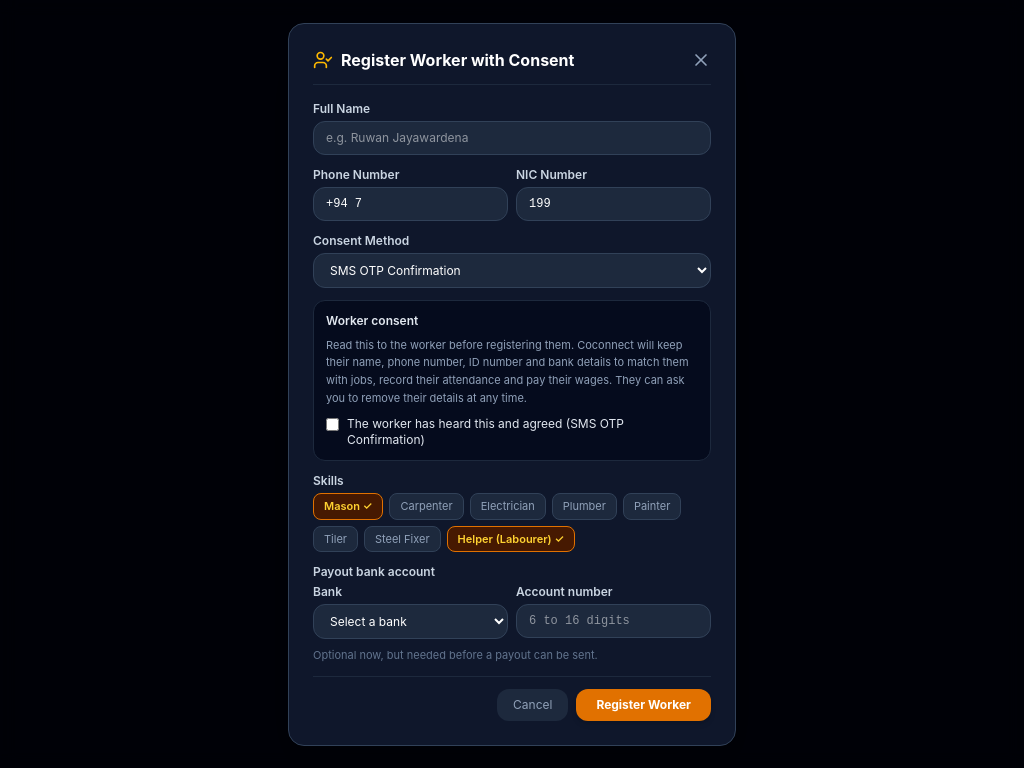
Scenario: AddWorkerModal consent and bank details › rejects an account number that is not 6 to 16 digits
This screenshot has width=1024, height=768.
Type "Nuwan Perera" into the field with placeholder "e.g. Ruwan Jayawardena". click: (512, 138)
box: [313, 120, 711, 154]
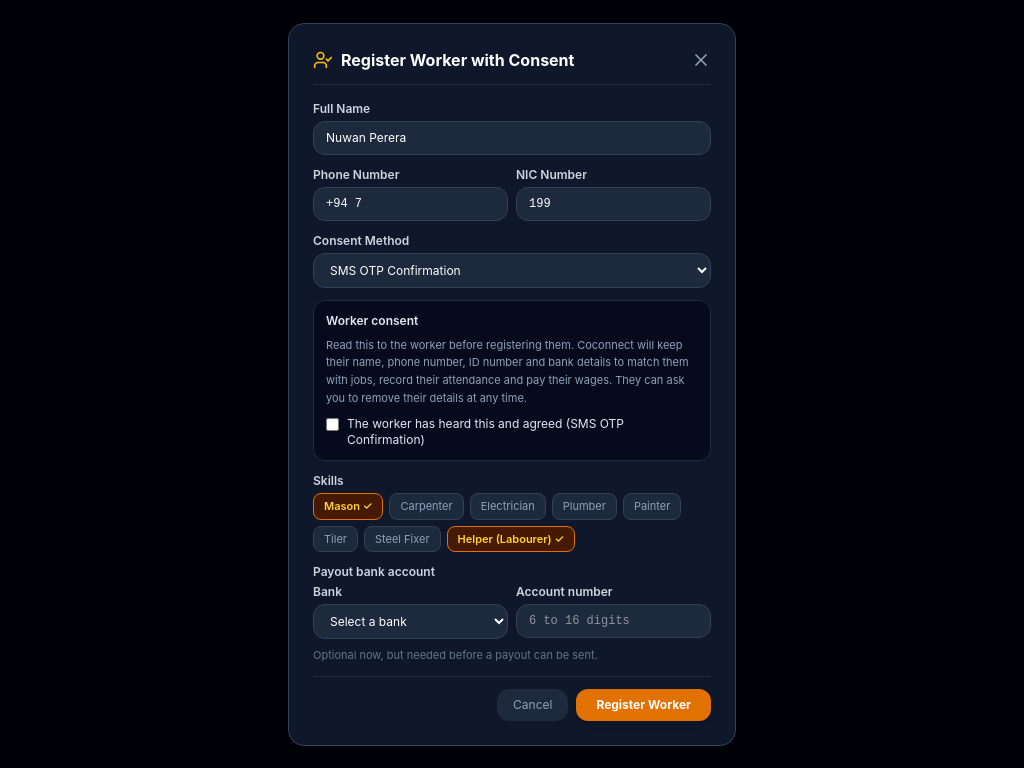
Click the checkbox with test id "consent-confirm". click: (332, 424)
box: [326, 418, 339, 431]
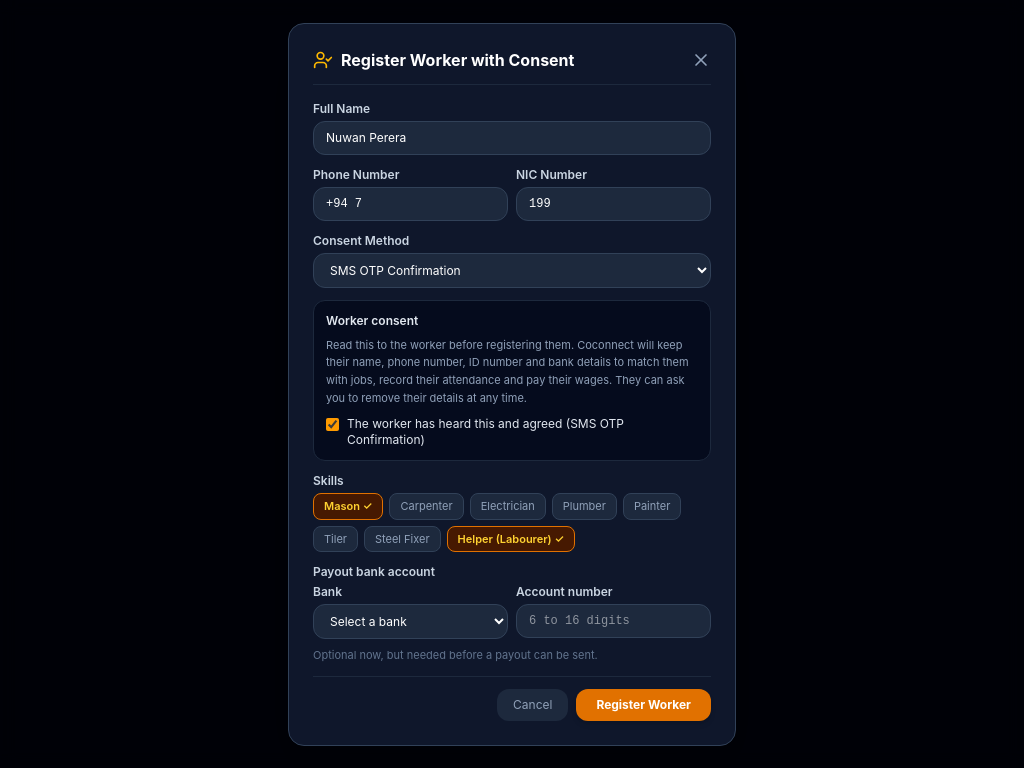
Select "Bank of Ceylon" in the dropdown with test id "bank-code". click: (410, 622)
box: [313, 604, 508, 639]
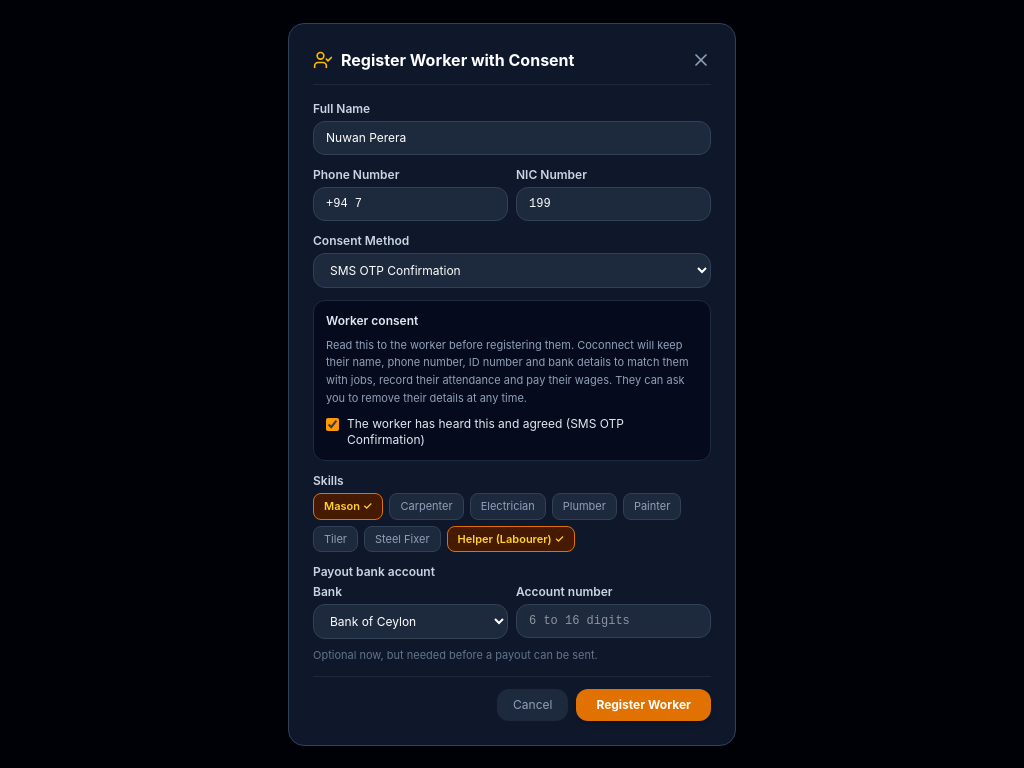
Type "12-34" into the field with test id "bank-account". click: (614, 621)
box: [516, 604, 711, 638]
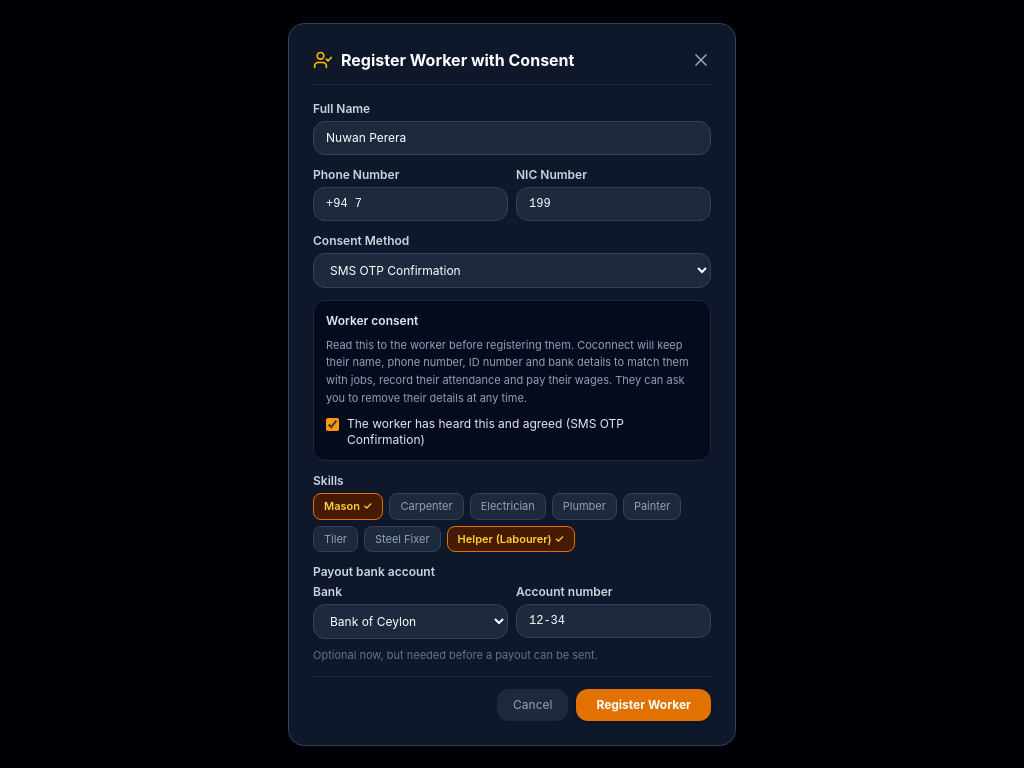
Click the submit button. click: (644, 704)
box: [576, 688, 711, 720]
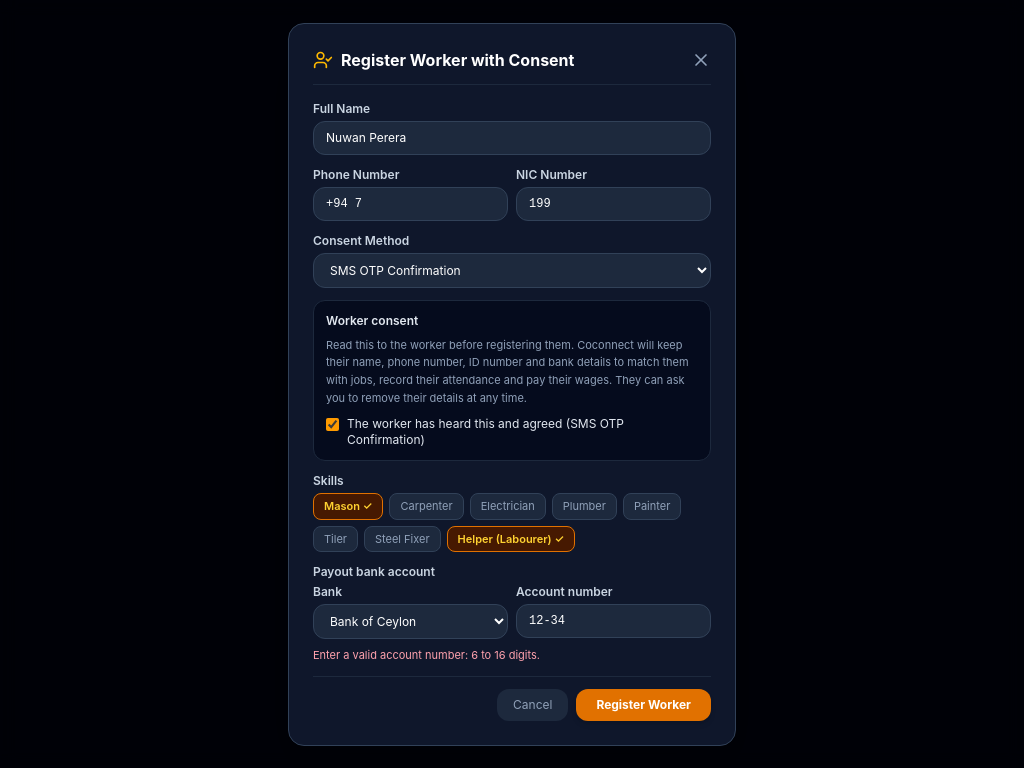
Now the text "Enter a valid account number: 6 to 16 digits." is shown, box [313, 648, 540, 662]
